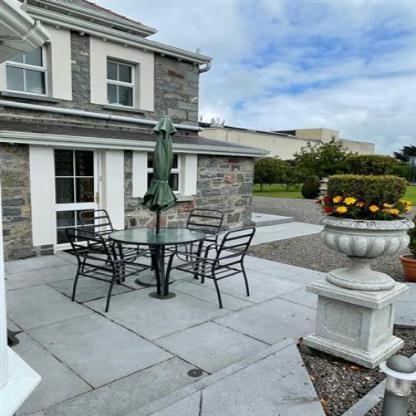chair: (57, 227, 154, 309), (177, 231, 261, 303), (78, 200, 138, 270), (180, 199, 226, 266)
table: (113, 218, 207, 302)
